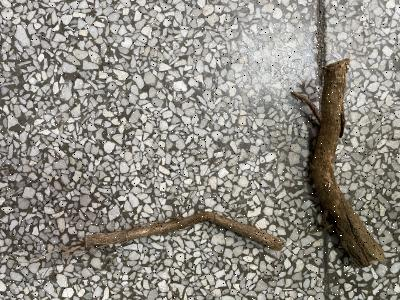Root: (291, 58, 385, 267), (85, 212, 284, 250)
